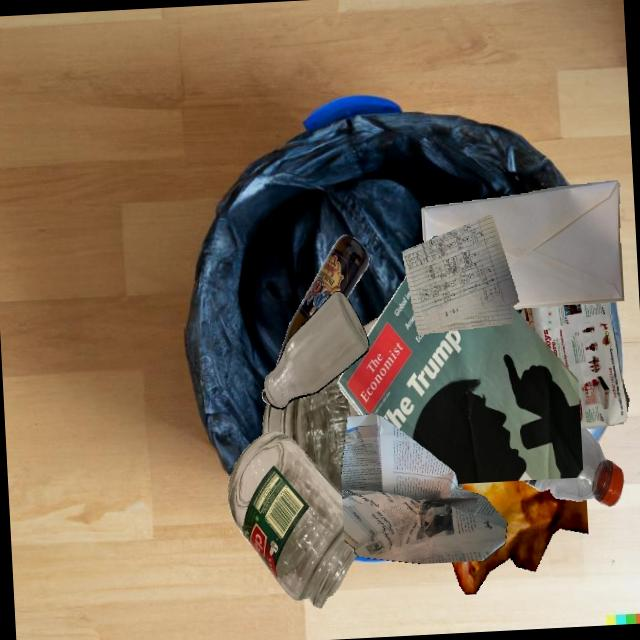biowaste: (452, 480, 589, 594)
glass: (228, 432, 357, 608), (264, 291, 369, 409), (276, 235, 369, 366), (261, 371, 351, 495)
paper: (338, 276, 583, 484), (421, 181, 624, 309), (341, 413, 507, 564), (344, 336, 460, 484), (514, 302, 629, 429), (402, 215, 519, 335)
plastic: (522, 427, 624, 507)
